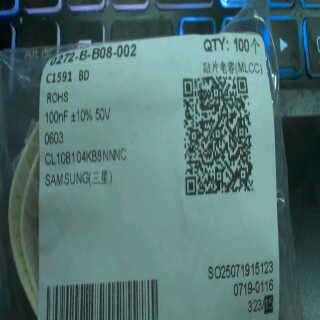100nF: (40, 107, 69, 131)
